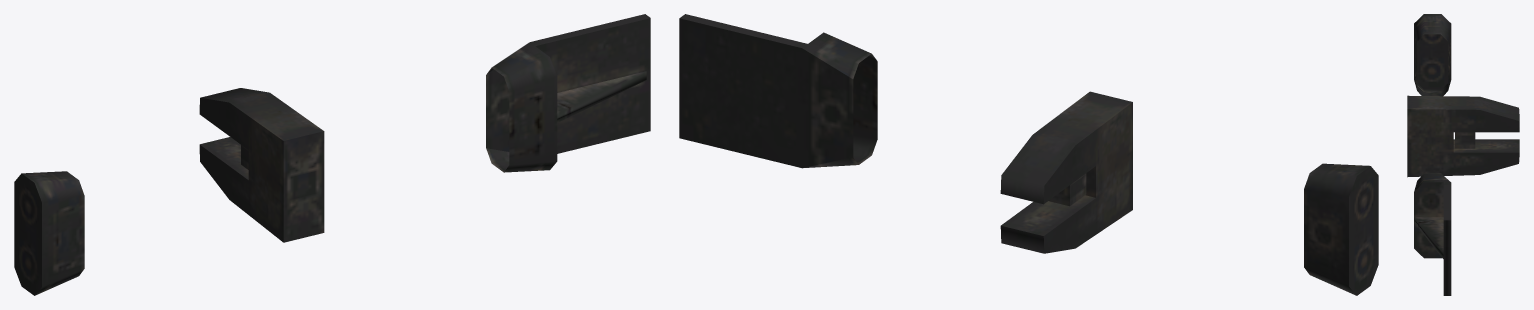
3 renders of one model, left to right at view 1: azimuth 30°, elevation 25°; view 2: azimuth 150°, elevation 25°; view 3: azimuth 270°, elevation 25°, orthographic. The views are drawn at different scales.
Visible parts, largest first — view 1: set_0_group_0; view 2: set_0_group_0; view 3: set_0_group_0.
Part boxes in pixels (left/top/right/bottom): set_0_group_0: left=14, top=14, right=650, bottom=295; set_0_group_0: left=679, top=14, right=1378, bottom=295; set_0_group_0: left=1407, top=14, right=1519, bottom=295.
Size of the model in its own units: 0.7104 by 0.1217 by 0.164.
1 material, 1 textured.
